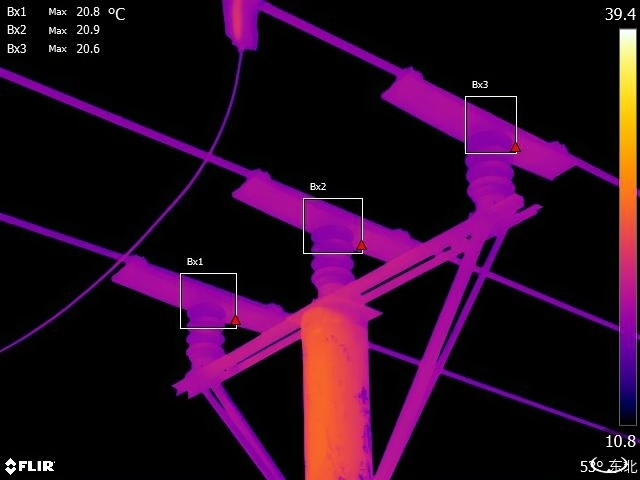clamp: (212, 1, 279, 54)
post insulator: (453, 130, 526, 204), (304, 216, 362, 294), (178, 303, 229, 371)
